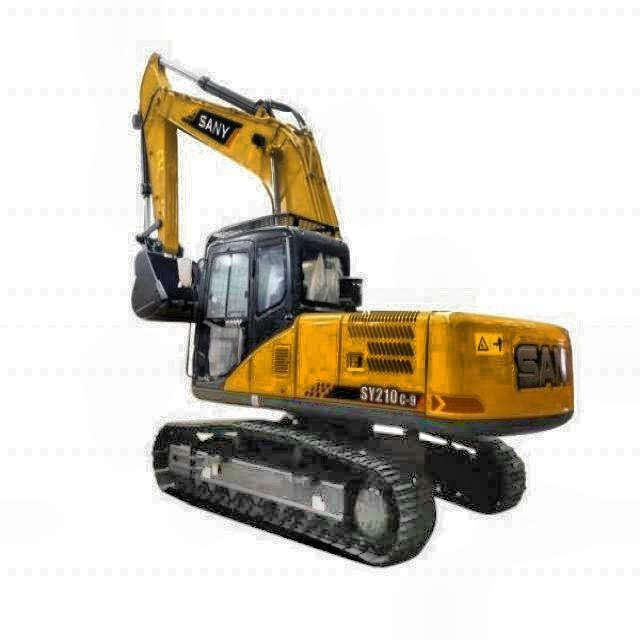excavator: (129, 50, 576, 570)
